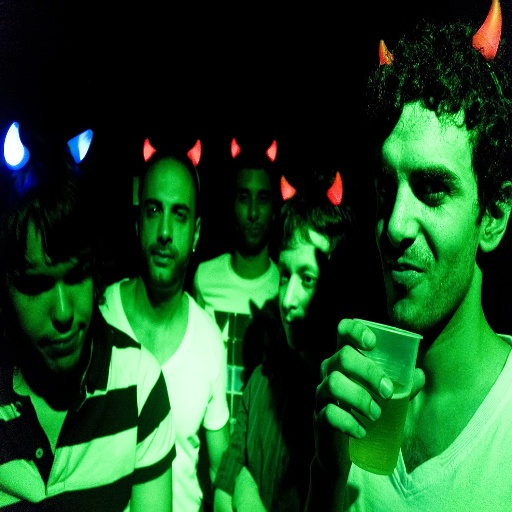hand: (313, 329, 437, 468), (231, 466, 257, 511)
